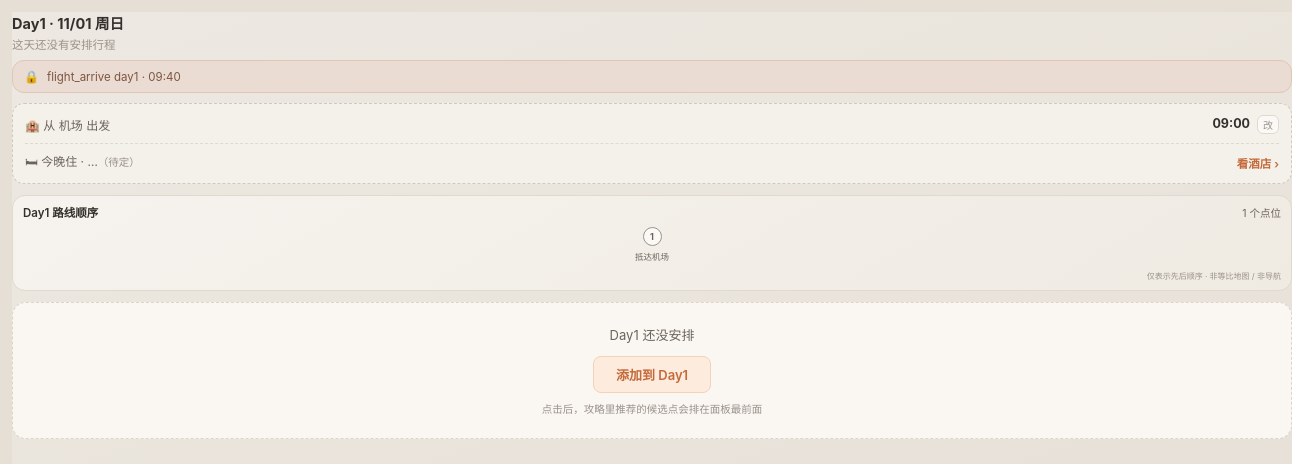
Test: S5 时间来源标签限场景展示（Task #340 开关关闭口径） › 编辑态：带时间灰字不渲染（Task #340），输入框本体保留
# 点击「改」进入编辑态
Click the button with class "anchor-edit-btn" at {"x": 1268, "y": 124}, box [1257,114,1279,134]
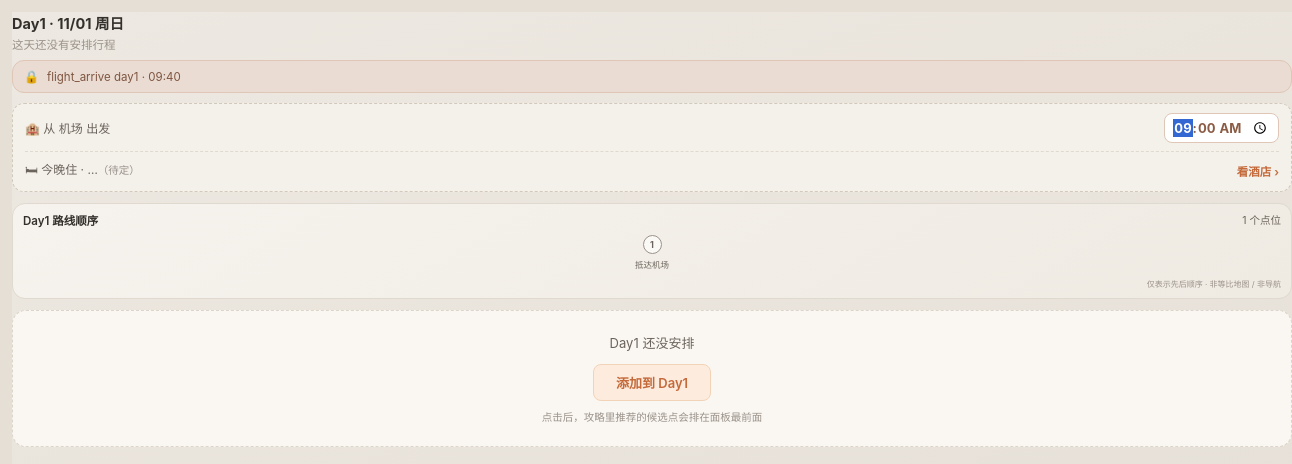
Check: the time field with class "depart-input" is shown, box [1164,113,1279,143]
